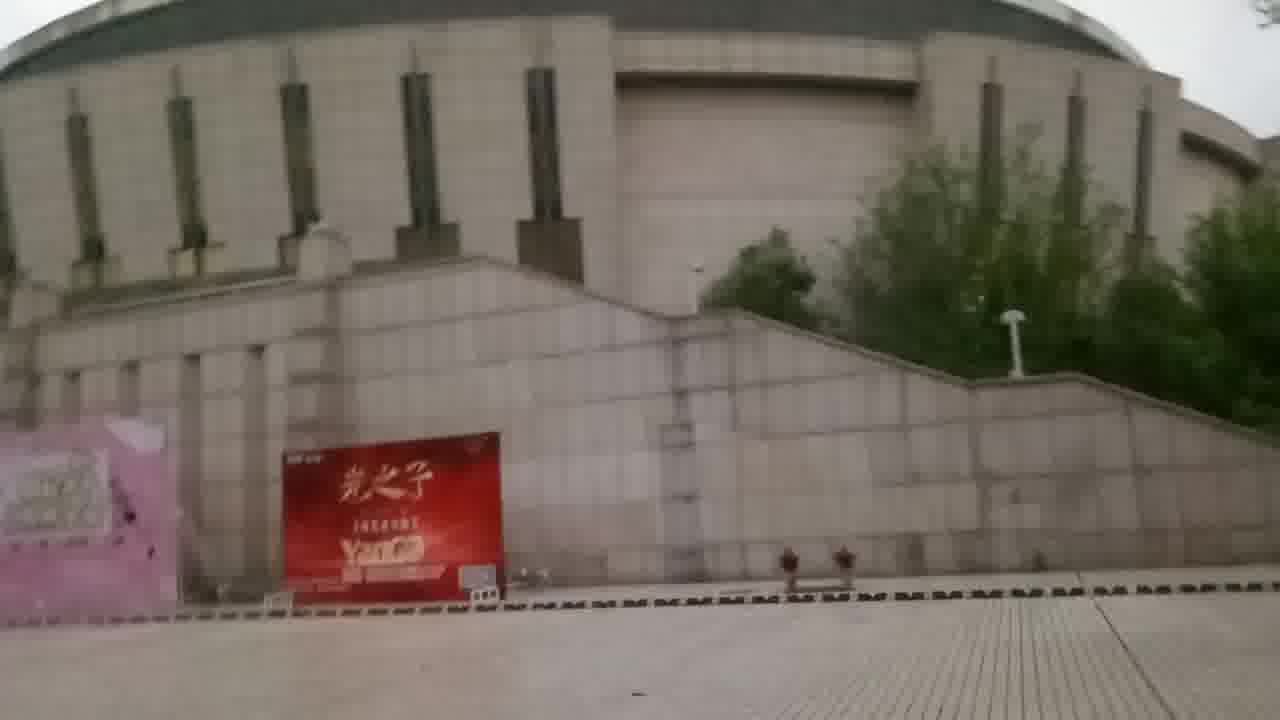zhongtiww: (6, 1, 1280, 632)
